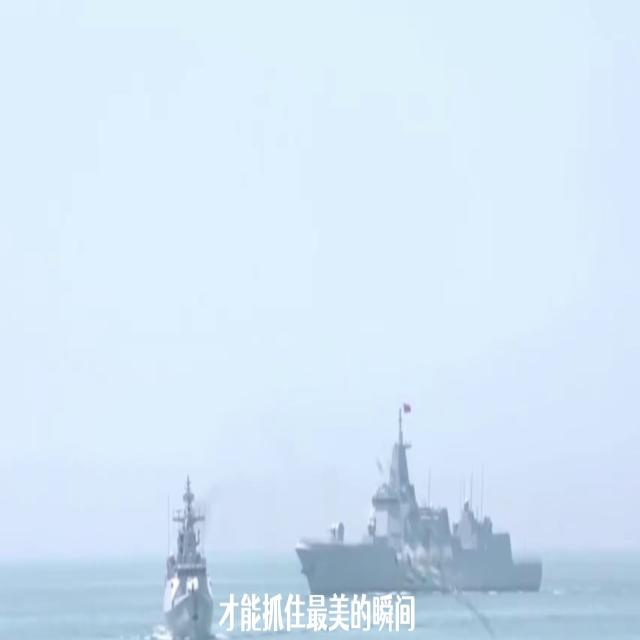navalvessels: (295, 401, 544, 596), (159, 469, 217, 640)
